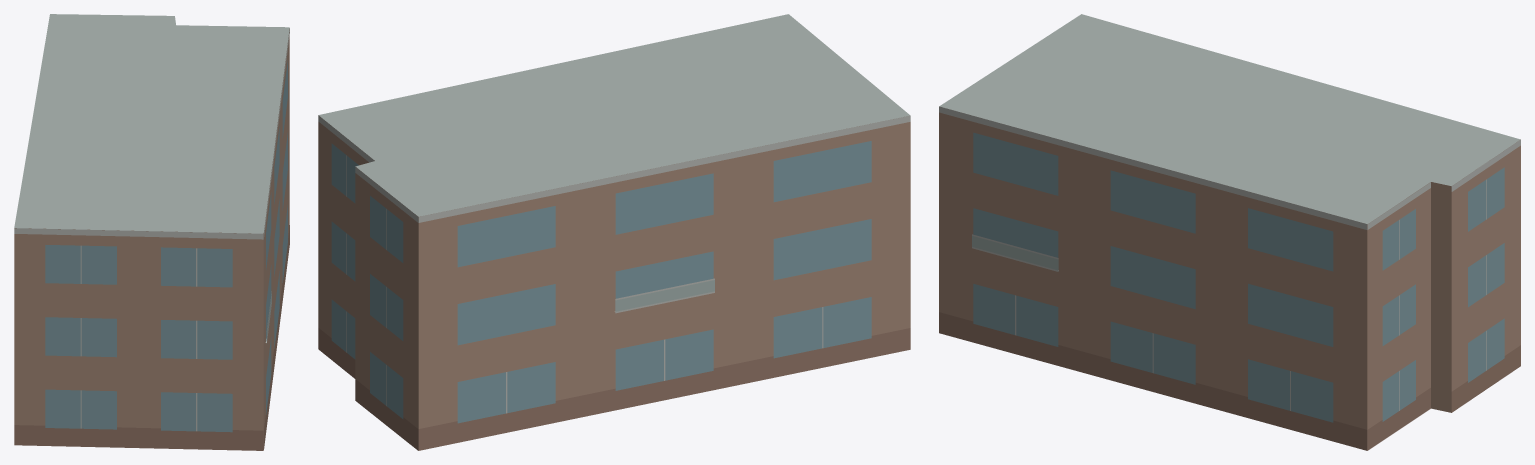
File: survey-upis-32668929.glb
3 views of the same model, side by side, from view 1: azimuth 30°, elevation 25°; view 2: azimuth 150°, elevation 25°; view 3: azimuth 270°, elevation 25° (orthographic). The views are drawn at different scales.
Parts seen in each view (by area): view 1: survey-upis-32668929.tmp; view 2: survey-upis-32668929.tmp; view 3: survey-upis-32668929.tmp.
Part boxes in pixels (left/top/right/bottom): survey-upis-32668929.tmp: left=14, top=14, right=289, bottom=450; survey-upis-32668929.tmp: left=318, top=14, right=910, bottom=450; survey-upis-32668929.tmp: left=939, top=14, right=1520, bottom=450.
Size of the model in its own units: 18.2 by 9.15 by 21.29.
